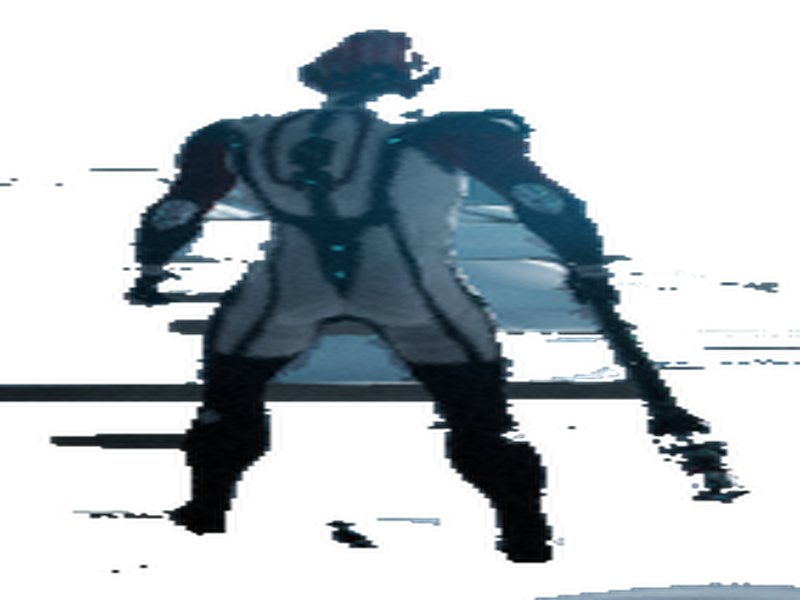corpus: (130, 22, 753, 564)
